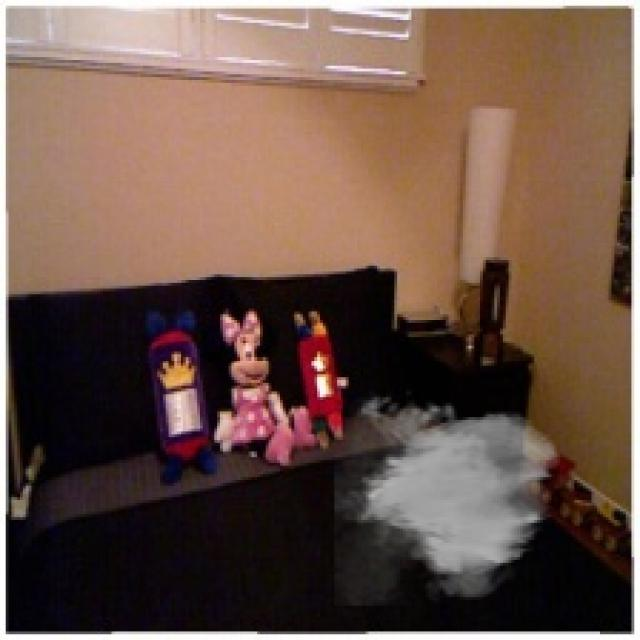smoke: (334, 388, 563, 606)
